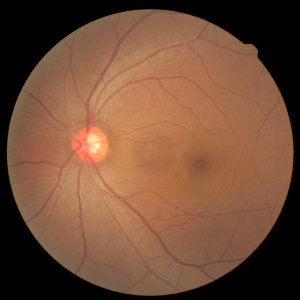healthy_eye: (36, 83, 260, 202)
